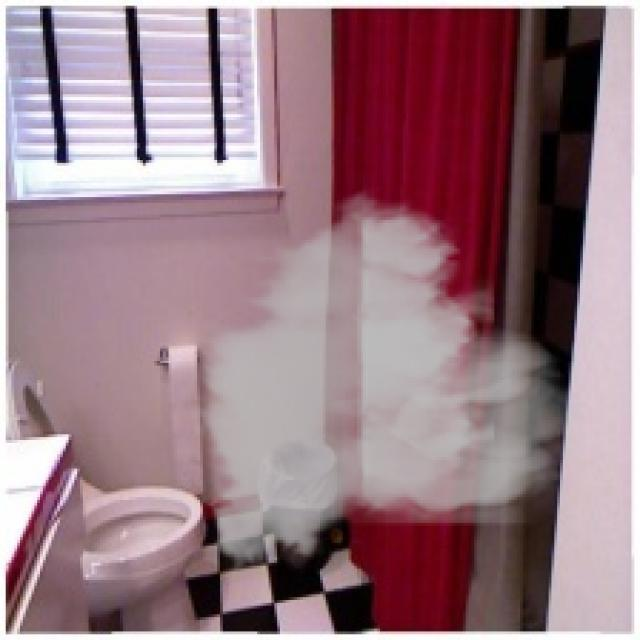Smoke: (185, 180, 586, 586)
